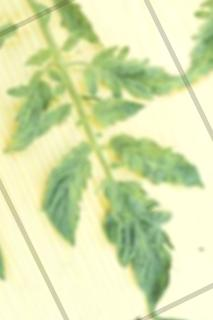Tomato leaf mosaic virus: (80, 164, 197, 316), (24, 139, 128, 251), (74, 26, 184, 129), (0, 64, 75, 157), (85, 84, 147, 135)
